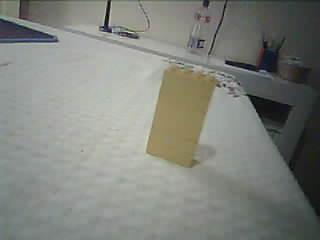lego: (145, 64, 216, 168)
